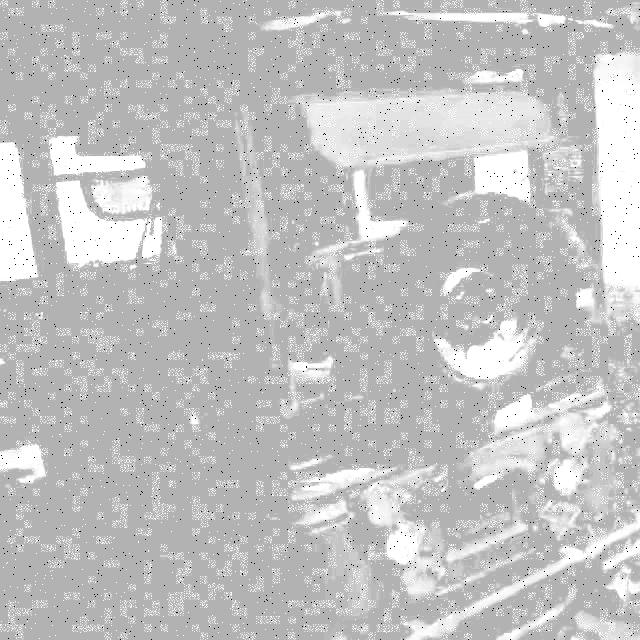Toto: (30, 62, 638, 635)
